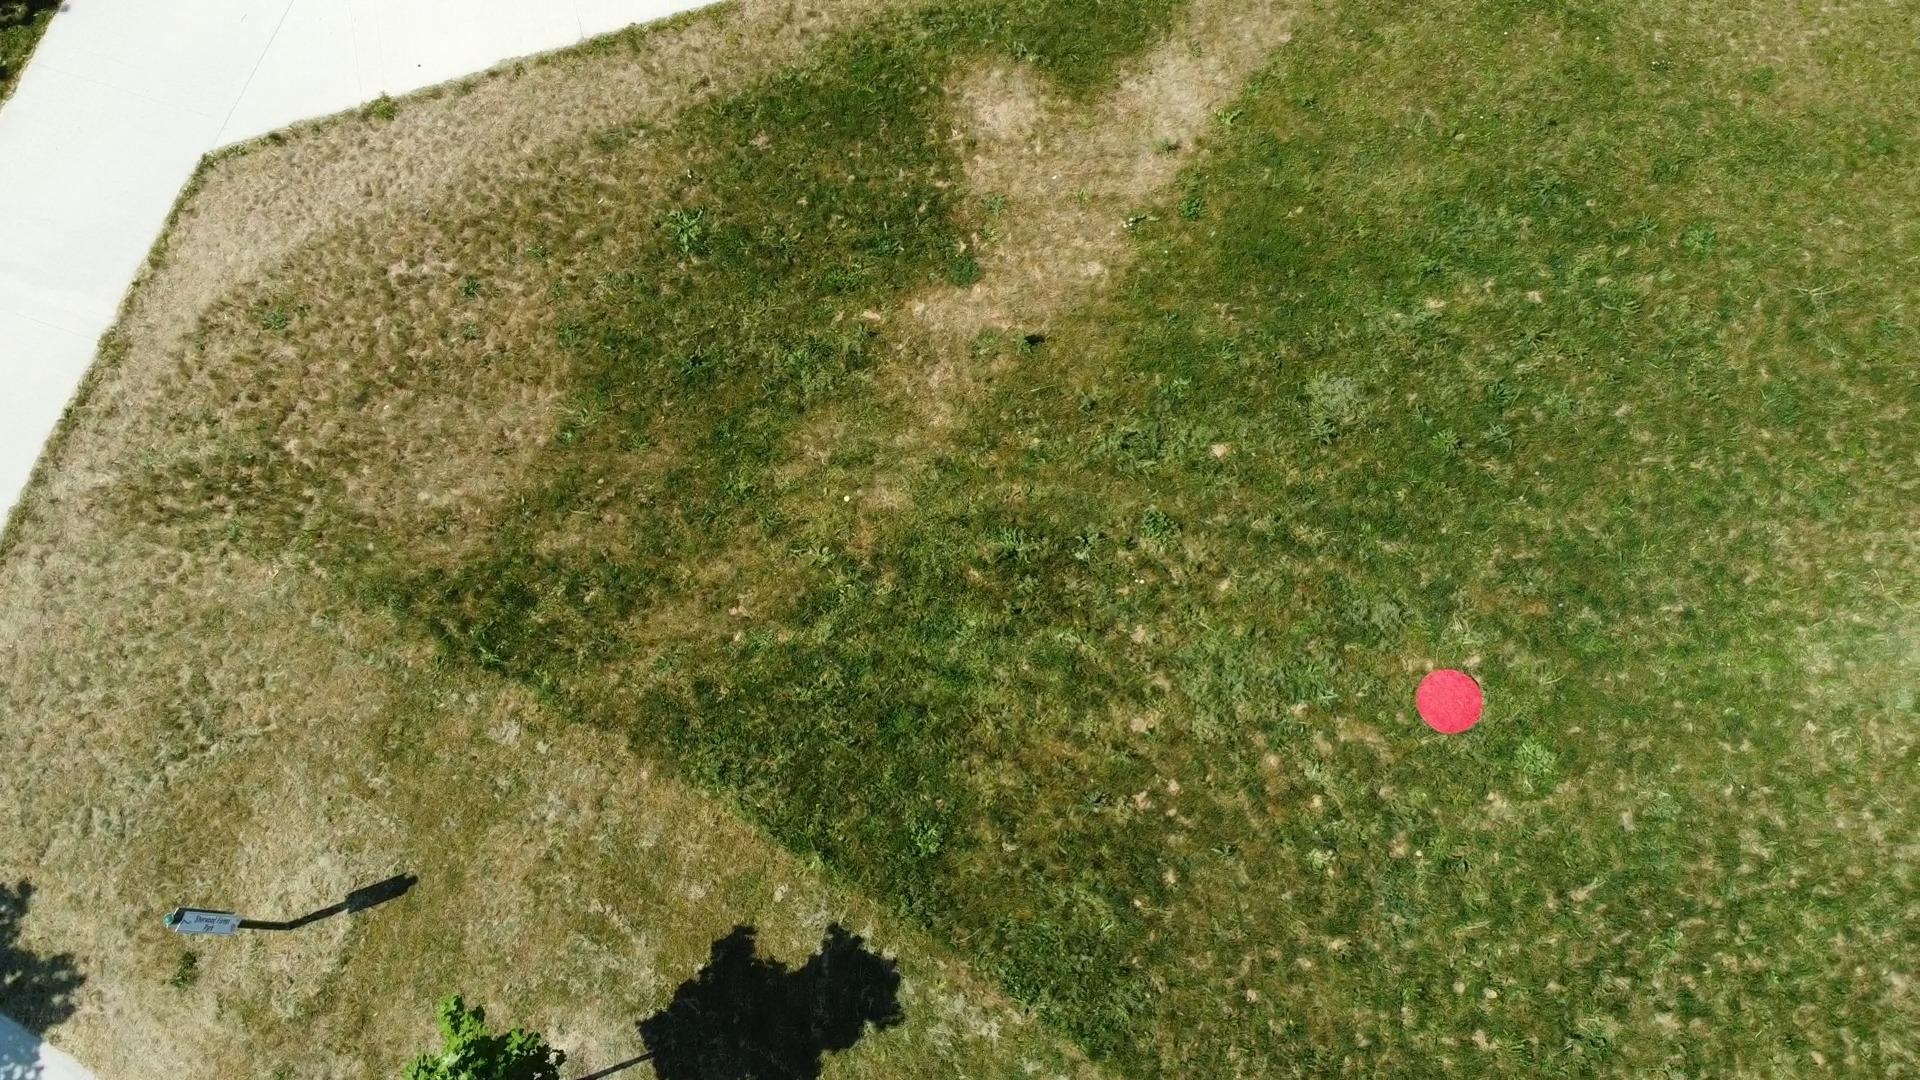Red: (1414, 667, 1486, 737)
